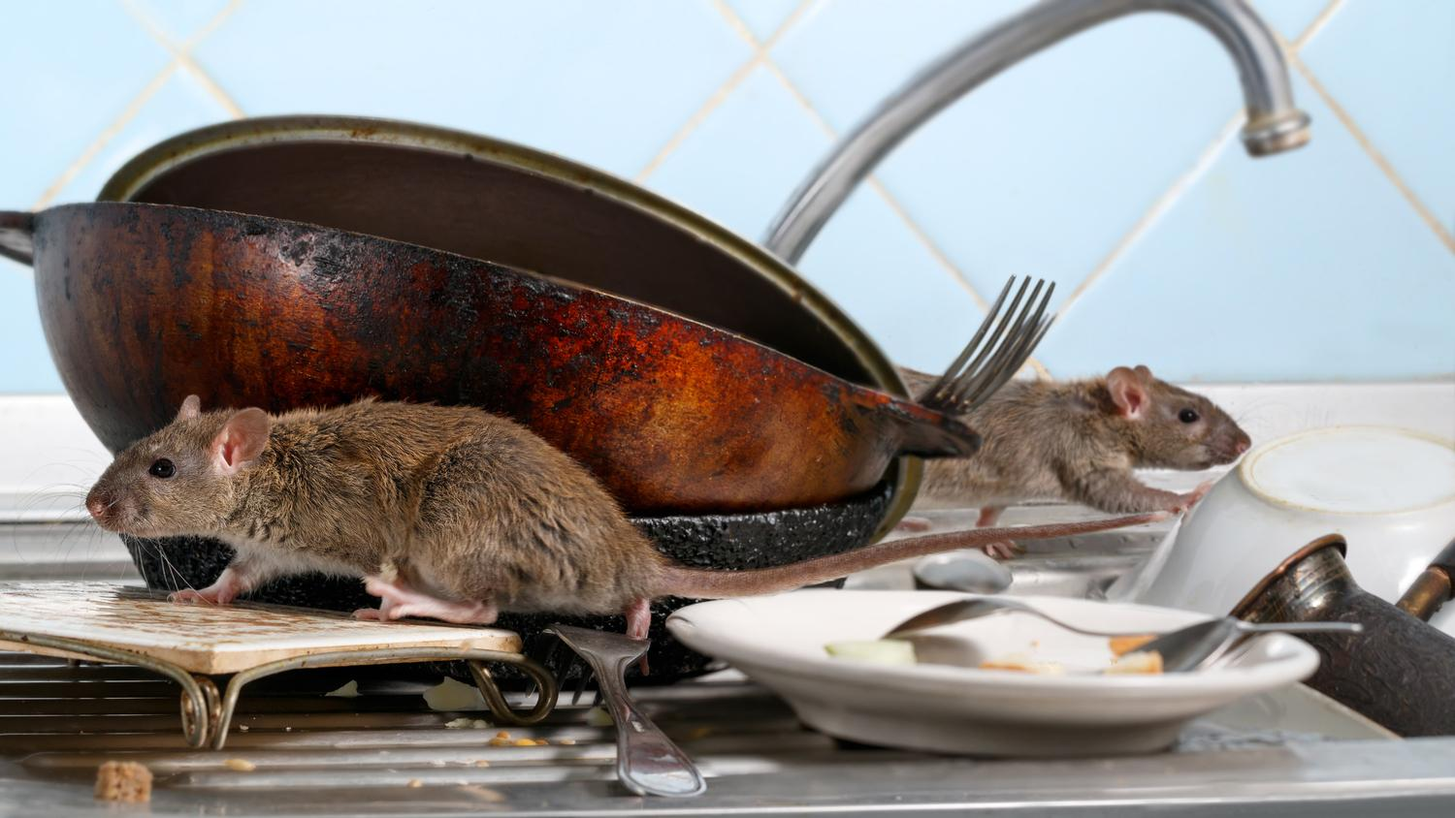rat: (88, 395, 665, 636), (918, 366, 1250, 524)
